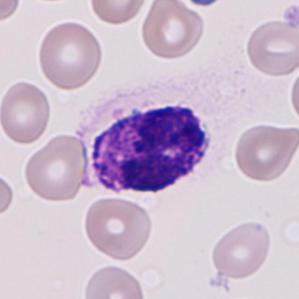Basophil: (72, 82, 222, 204)
Platelets: (280, 2, 298, 30), (180, 0, 226, 8)
RBC: (35, 18, 105, 92), (21, 130, 90, 204), (81, 194, 154, 262), (231, 121, 298, 183), (138, 0, 206, 61), (209, 218, 274, 280), (0, 78, 54, 146), (244, 18, 297, 78), (80, 262, 148, 299), (88, 0, 150, 27), (0, 169, 15, 219), (288, 65, 299, 126), (0, 0, 23, 27)
